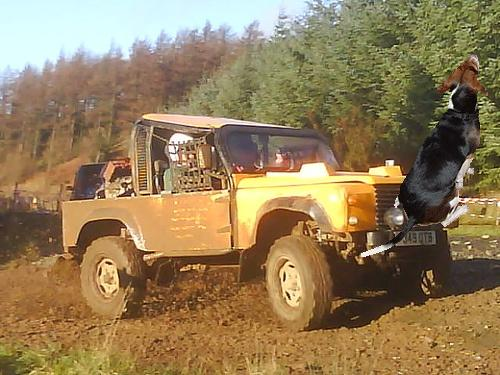tampered: (361, 53, 488, 257)
